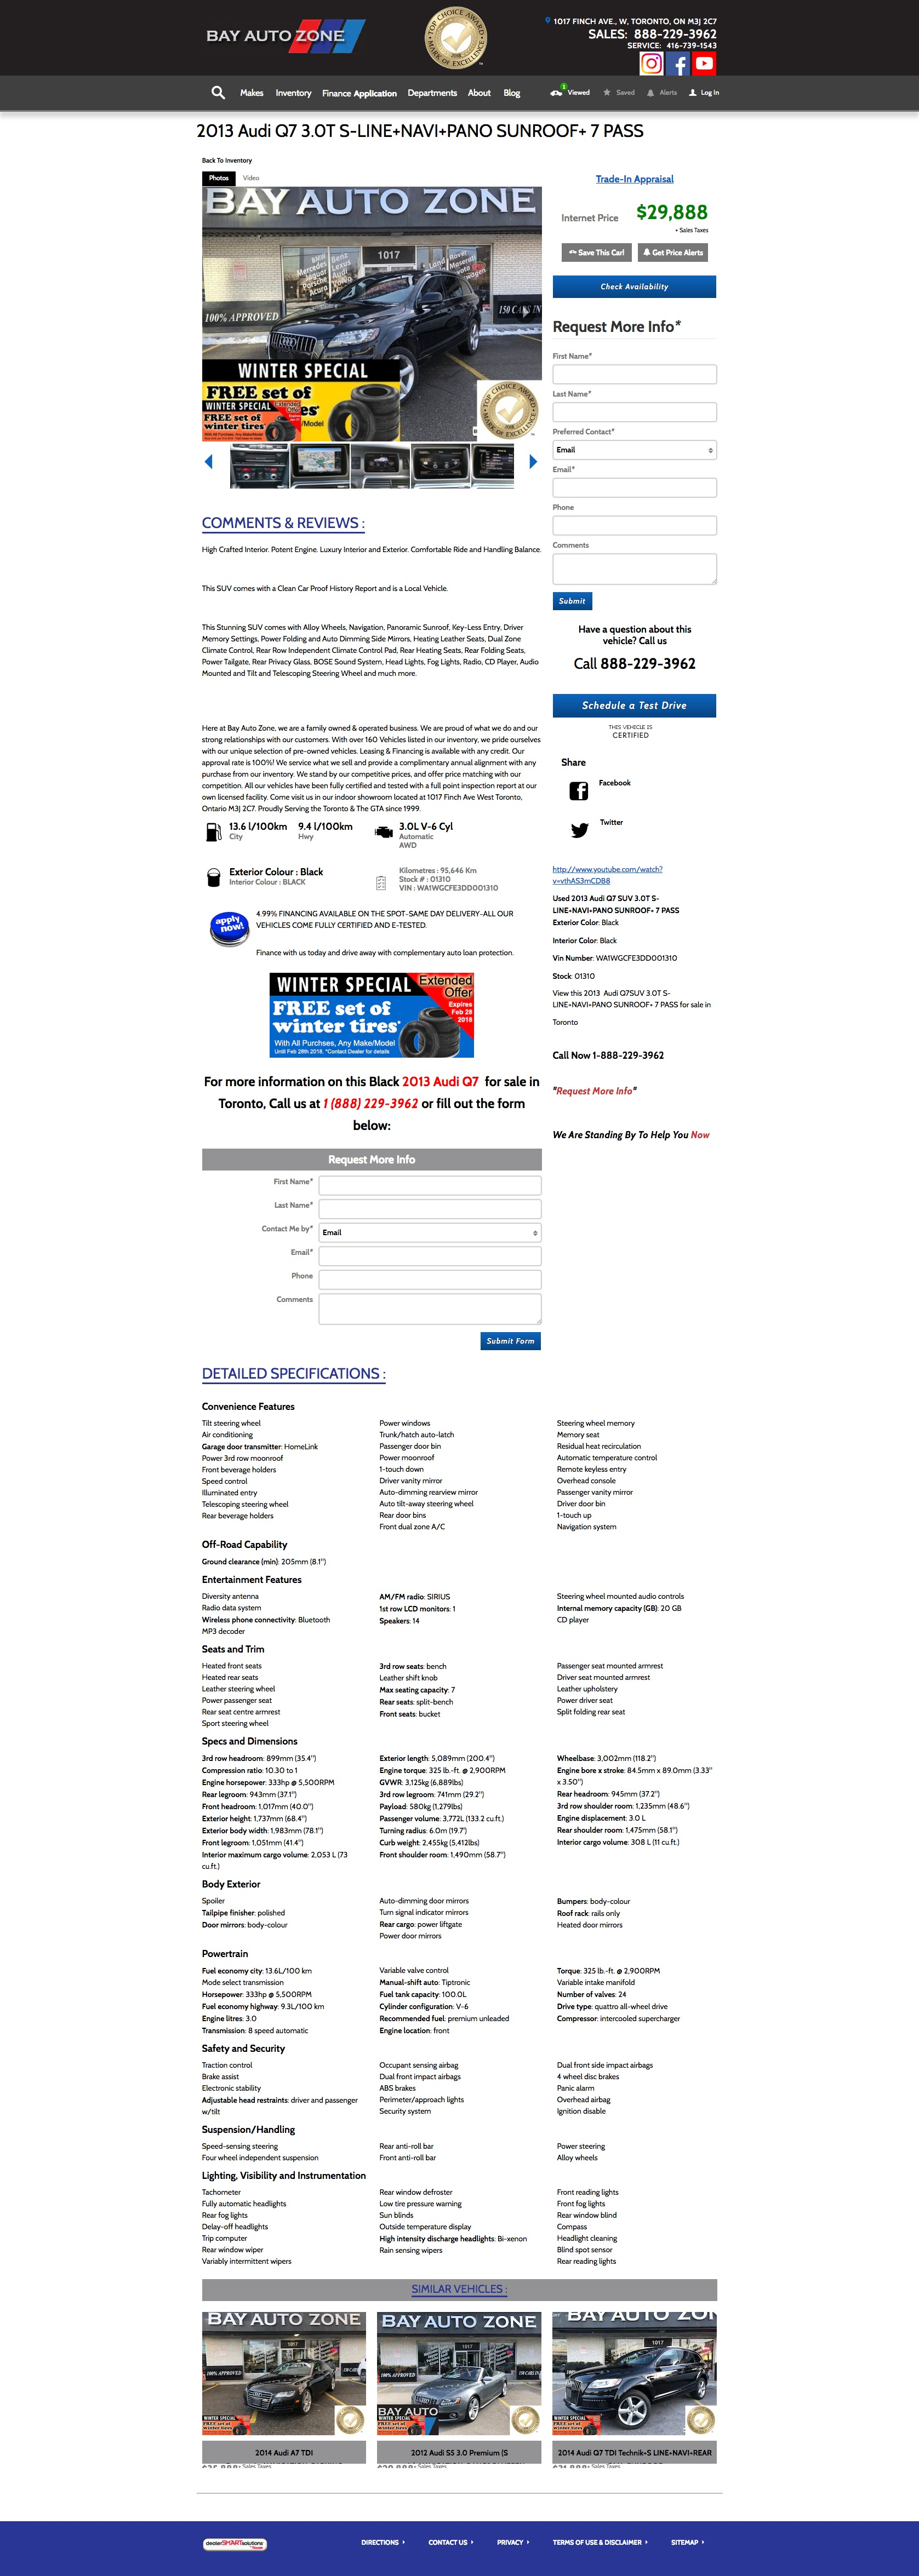car: (529, 453, 539, 470)
